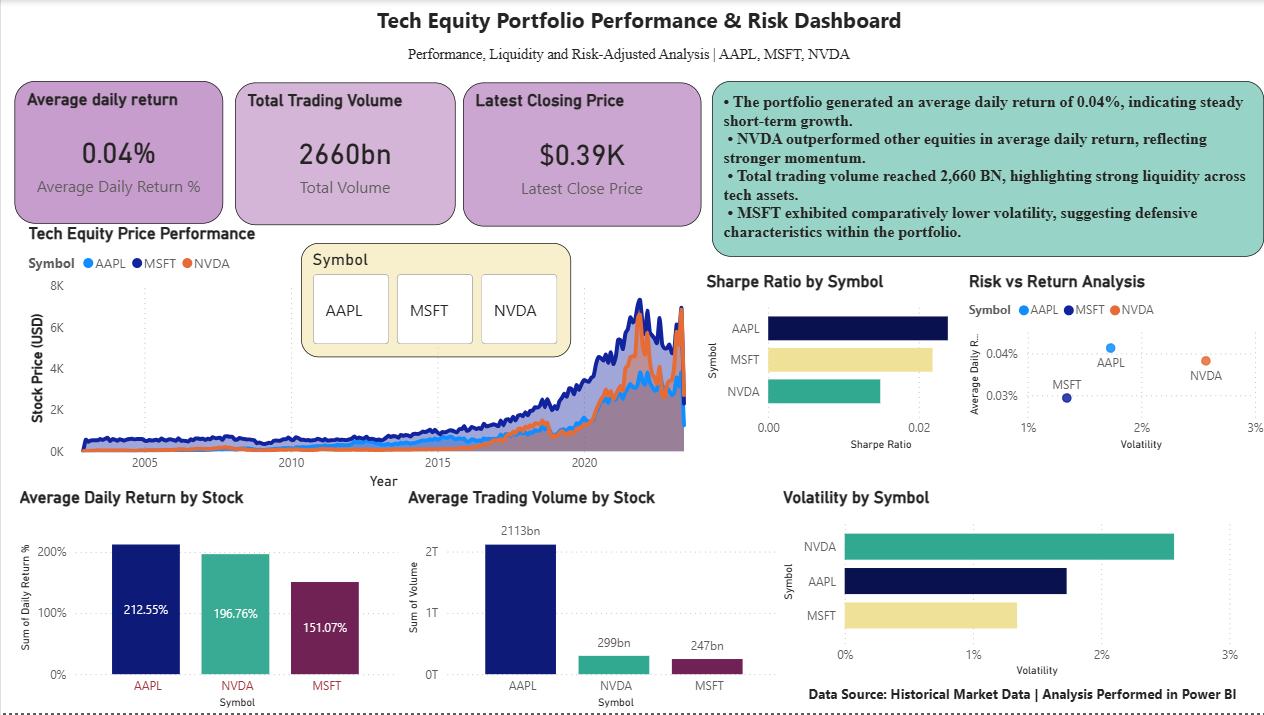

The dashboard page shown, as its layout file describes it:
{"tool":"powerbi","page":{"name":"Page 1","canvas":[1280,720],"ordinal":0},"visuals":[{"type":"lineChart","title":"Tech Equity Price Performance","fields":{"Series":["Portfolio_Final.Symbol"],"Category":["Portfolio_Final.Date.Variation.Date Hierarchy.Year","Portfolio_Final.Date.Variation.Date Hierarchy.Quarter","Portfolio_Final.Date.Variation.Date Hierarchy.Month","Portfolio_Final.Date.Variation.Date Hierarchy.Day"],"Y":["Sum(Portfolio_Final.Close)"]},"box":[22.7,225.6,684.4,272.6],"z":0},{"type":"card","title":"Average daily return","fields":{"Values":["Portfolio_Final.Average Daily Return %"]},"box":[13.6,81.8,210.5,143.8],"z":1000},{"type":"card","title":"Total Trading Volume","fields":{"Values":["AAPL.Total Volume"]},"box":[236.2,83.3,222.6,143.8],"z":2000},{"type":"card","title":"Latest Closing Price","fields":{"Values":["AAPL.Latest Close Price"]},"box":[466.4,83.3,240.8,145.4],"z":3000},{"type":"advancedSlicerVisual","fields":{"Values":["Portfolio_Final.Symbol"]},"box":[302.8,245.3,272.6,115.1],"z":4000},{"type":"clusteredColumnChart","title":"Average Daily Return by Stock","fields":{"Category":["Portfolio_Final.Symbol"],"Y":["Sum(Portfolio_Final.Daily Return %)"]},"box":[13.6,492.1,392.2,227.1],"z":5000},{"type":"clusteredColumnChart","title":"Average Trading Volume by Stock","fields":{"Category":["Portfolio_Final.Symbol"],"Y":["Sum(Portfolio_Final.Volume)"]},"box":[405.8,492.1,389.2,227.1],"z":6000},{"type":"textbox","box":[717.7,81.8,557.2,177.2],"z":7000},{"type":"barChart","fields":{"Y":["Portfolio_Final.Volatility"],"Category":["Portfolio_Final.Symbol"]},"box":[784.4,492.1,469.4,195.3],"z":8000},{"type":"barChart","fields":{"Category":["Portfolio_Final.Symbol"],"Y":["Portfolio_Final.Sharpe Ratio"]},"box":[707.1,274.1,311.9,184.7],"z":9000},{"type":"scatterChart","title":"Risk vs Return Analysis","fields":{"X":["Portfolio_Final.Volatility"],"Y":["Portfolio_Final.Average Daily Return %"],"Series":["Portfolio_Final.Symbol"]},"box":[972.1,274.1,307.4,184.7],"z":10000},{"type":"textbox","box":[210.5,0,840.4,39.4],"z":11000},{"type":"textbox","box":[405.8,39.4,757.1,37.9],"z":12000},{"type":"textbox","box":[810.1,685.9,443.7,33.3],"z":12001}]}

Visuals, with their boxes in screenshot pixels (x1, y1, x2, y2), scaled from the page's 1280x720 canvas onto the 1264x715 screenshot:
"Tech Equity Price Performance" lineChart: pyautogui.locateOnScreen(22, 224, 698, 495)
"Average daily return" card: pyautogui.locateOnScreen(13, 81, 221, 224)
"Total Trading Volume" card: pyautogui.locateOnScreen(233, 83, 453, 226)
"Latest Closing Price" card: pyautogui.locateOnScreen(461, 83, 698, 227)
advancedSlicerVisual - Portfolio_Final.Symbol: pyautogui.locateOnScreen(299, 244, 568, 358)
"Average Daily Return by Stock" clusteredColumnChart: pyautogui.locateOnScreen(13, 489, 401, 714)
"Average Trading Volume by Stock" clusteredColumnChart: pyautogui.locateOnScreen(401, 489, 785, 714)
textbox: pyautogui.locateOnScreen(709, 81, 1259, 257)
barChart - Portfolio_Final.Volatility x Portfolio_Final.Symbol: pyautogui.locateOnScreen(775, 489, 1238, 683)
barChart - Portfolio_Final.Symbol x Portfolio_Final.Sharpe Ratio: pyautogui.locateOnScreen(698, 272, 1006, 456)
"Risk vs Return Analysis" scatterChart: pyautogui.locateOnScreen(960, 272, 1263, 456)
textbox: pyautogui.locateOnScreen(208, 0, 1038, 39)
textbox: pyautogui.locateOnScreen(401, 39, 1148, 77)
textbox: pyautogui.locateOnScreen(800, 681, 1238, 714)
